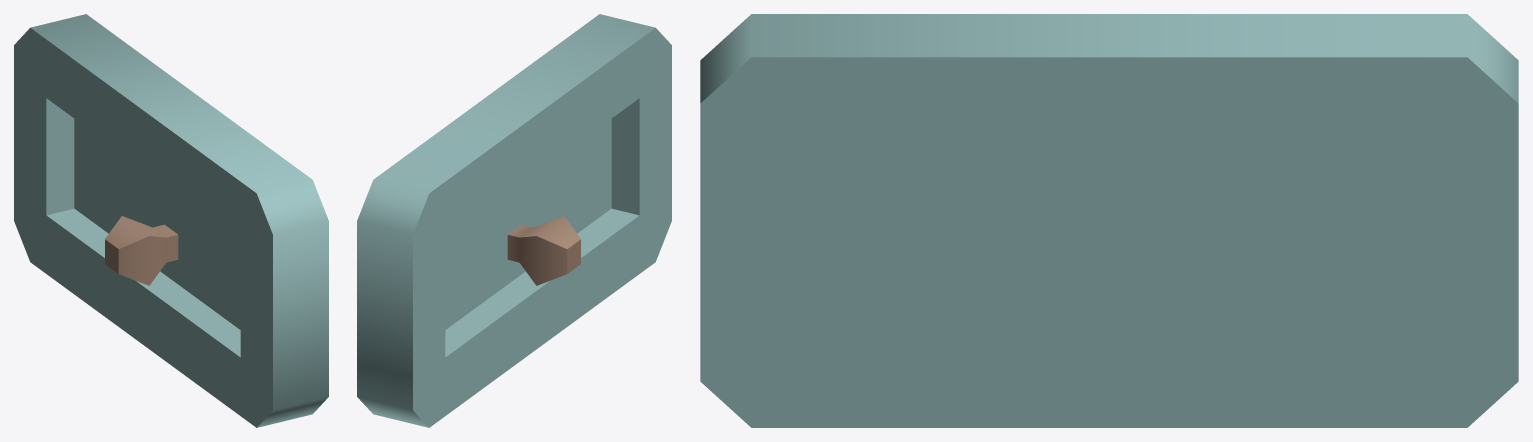
File: (%no-merge) (%open-up) (%low).glb
3 renders of one model, left to right at view 1: azimuth 30°, elevation 25°; view 2: azimuth 150°, elevation 25°; view 3: azimuth 270°, elevation 25°, orthographic. The views are drawn at different scales.
Visible parts, largest first — view 1: (%no-merge) (%open-up) (%low)(Clone); view 2: (%no-merge) (%open-up) (%low)(Clone); view 3: (%no-merge) (%open-up) (%low)(Clone).
Part boxes in pixels (x1=…): (%no-merge) (%open-up) (%low)(Clone): x1=14, y1=14, x2=328, y2=427; (%no-merge) (%open-up) (%low)(Clone): x1=357, y1=14, x2=671, y2=427; (%no-merge) (%open-up) (%low)(Clone): x1=700, y1=14, x2=1518, y2=427.
Bounding box in the file's own units: 0.0782 × 0.2 × 0.4.
